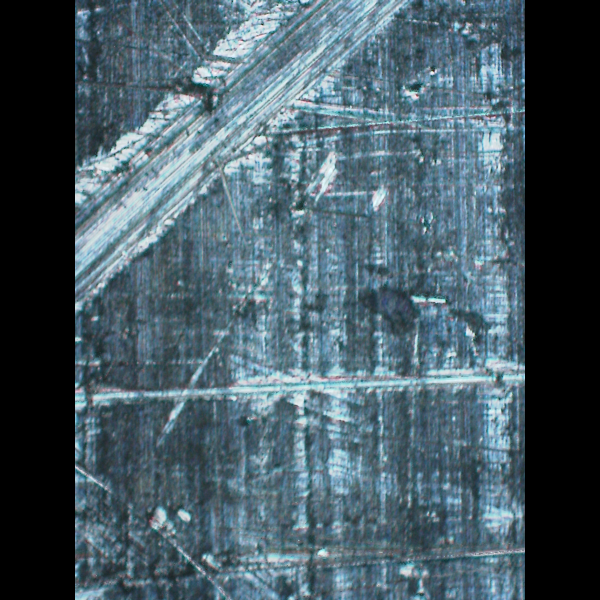d: (74, 0, 415, 314), (79, 321, 524, 417)
